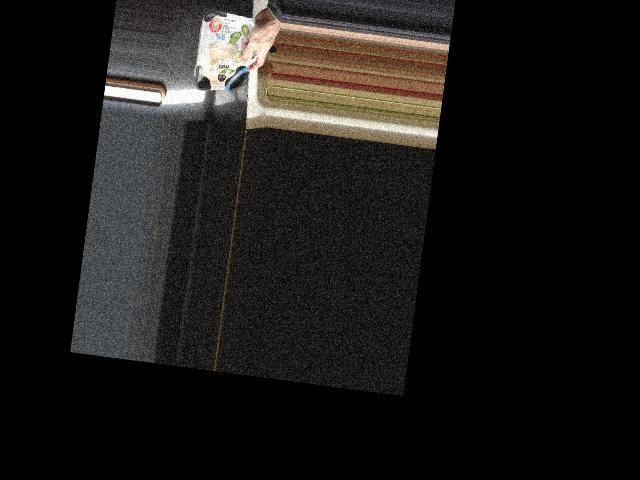cheese: (193, 8, 263, 95)
